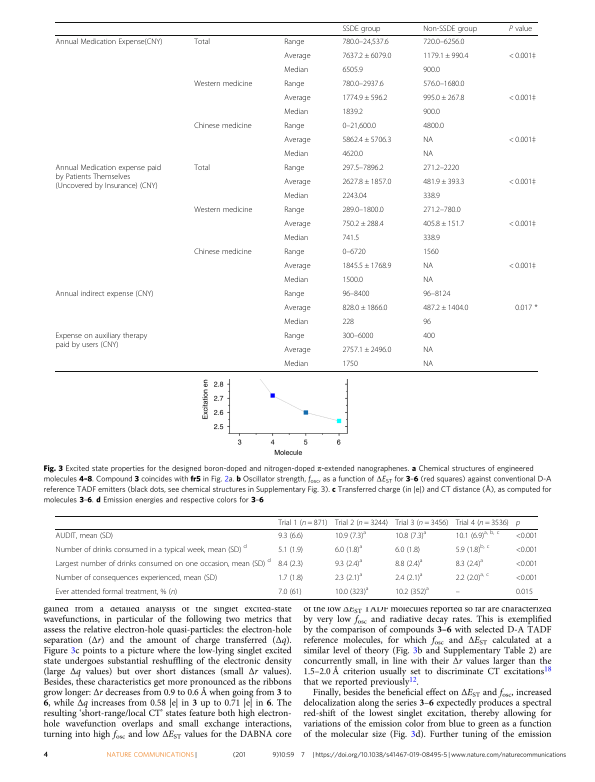borderless: (54, 20, 538, 371), (54, 514, 538, 599)
cell: (55, 163, 162, 191), (55, 557, 272, 569), (55, 543, 248, 555), (55, 331, 148, 350), (55, 573, 218, 583), (55, 587, 178, 597), (55, 37, 163, 47), (55, 289, 154, 299), (193, 79, 253, 89), (193, 205, 253, 215), (55, 531, 114, 541), (193, 121, 252, 131), (193, 247, 252, 257), (455, 529, 500, 541), (341, 51, 392, 61), (341, 135, 392, 145), (341, 177, 392, 187), (341, 261, 392, 271), (341, 345, 392, 355), (422, 24, 478, 33), (334, 518, 389, 527), (394, 518, 449, 527), (455, 518, 510, 527), (341, 37, 390, 47), (422, 51, 469, 61), (341, 93, 388, 103), (341, 303, 388, 313), (422, 303, 469, 313), (277, 518, 328, 527), (341, 219, 385, 229), (394, 585, 430, 597), (422, 37, 465, 47), (341, 79, 384, 89), (422, 79, 465, 89), (422, 93, 465, 103), (341, 163, 384, 173), (422, 177, 465, 187), (341, 205, 384, 215), (422, 219, 465, 229), (455, 543, 490, 555), (455, 571, 490, 583), (334, 585, 369, 597), (334, 529, 367, 541), (394, 529, 427, 541), (422, 205, 461, 215), (422, 163, 460, 173), (341, 24, 381, 33), (341, 121, 377, 131), (334, 543, 363, 555), (334, 557, 363, 569), (394, 557, 423, 569), (455, 557, 484, 569), (334, 571, 363, 583), (394, 571, 423, 583), (341, 331, 374, 341), (508, 51, 537, 61), (508, 93, 537, 103), (508, 135, 537, 145), (508, 177, 537, 187), (508, 219, 537, 229), (508, 261, 537, 271), (341, 289, 370, 299), (422, 289, 451, 299), (283, 51, 311, 61), (283, 93, 311, 103), (283, 135, 311, 145), (283, 177, 311, 187), (283, 219, 311, 229), (283, 261, 311, 271), (283, 303, 311, 313), (283, 345, 311, 355), (277, 531, 304, 541), (277, 545, 304, 555), (394, 545, 421, 555), (277, 559, 304, 569), (277, 573, 304, 583), (341, 191, 368, 201), (283, 65, 309, 75), (283, 107, 309, 117), (283, 149, 309, 159), (283, 191, 309, 201), (283, 233, 309, 243), (341, 247, 367, 257), (283, 275, 309, 285), (283, 317, 309, 327), (283, 359, 309, 369), (277, 587, 302, 597), (514, 303, 538, 313), (515, 531, 538, 541), (515, 545, 538, 555), (515, 559, 538, 569), (515, 573, 538, 583), (341, 65, 364, 75), (341, 107, 364, 117), (422, 121, 445, 131), (341, 149, 364, 159), (341, 275, 364, 285), (508, 24, 533, 33), (283, 37, 305, 47), (283, 79, 305, 89), (283, 121, 305, 131), (283, 163, 305, 173), (283, 205, 305, 215), (283, 247, 305, 257), (283, 289, 305, 299), (283, 331, 305, 341), (515, 587, 534, 597), (422, 65, 441, 75), (422, 107, 441, 117), (422, 191, 441, 201), (341, 233, 360, 243), (422, 233, 441, 243), (193, 37, 211, 47), (193, 163, 211, 173), (422, 247, 440, 257), (341, 359, 359, 369), (341, 317, 355, 327), (422, 331, 436, 341), (422, 135, 434, 145), (422, 149, 434, 159), (422, 261, 434, 271), (422, 275, 434, 285), (422, 345, 434, 355), (422, 359, 434, 369), (422, 317, 432, 327), (515, 520, 521, 527), (455, 591, 461, 595)
